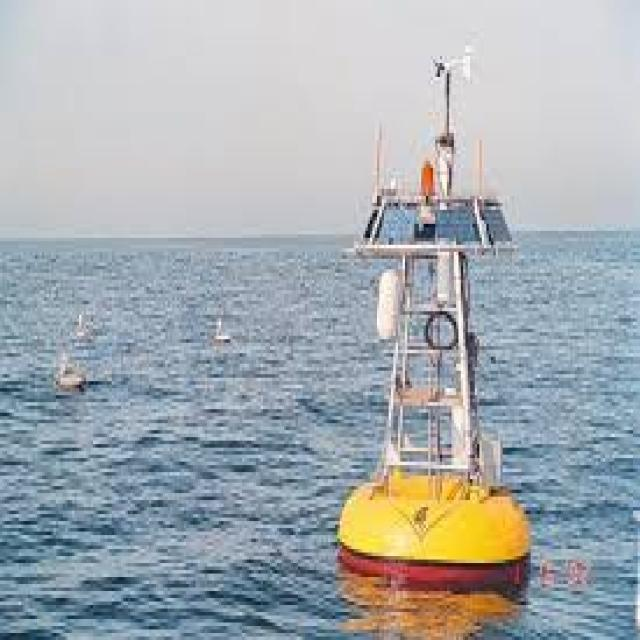buoy: (339, 20, 543, 603)
